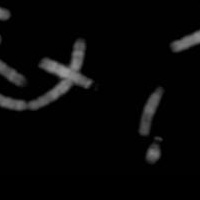chromosome: (0, 37, 87, 112), (38, 58, 93, 90), (138, 86, 165, 136), (170, 14, 200, 52), (0, 42, 25, 86), (145, 136, 162, 163), (0, 0, 10, 20), (157, 0, 200, 3)
